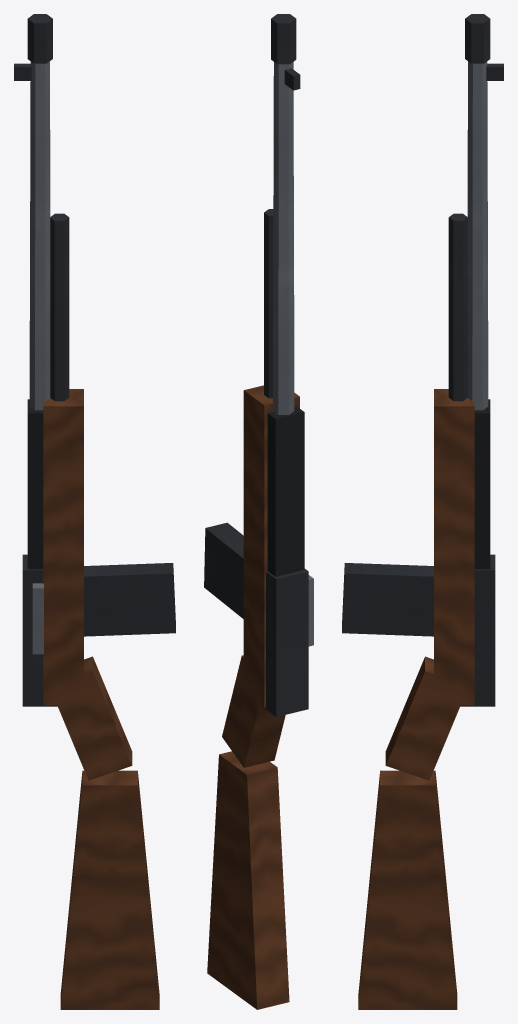
Rendered from weapon_m14.glb.
3 views of the same model, side by side, from view 1: azimuth 90°, elevation 25°; view 2: azimuth 210°, elevation 25°; view 3: azimuth 270°, elevation 25° (orthographic).
Parts seen in each view (by area): view 1: Weapon_M14; view 2: Weapon_M14; view 3: Weapon_M14.
Part boxes in pixels (<box>): Weapon_M14: <box>14,14,175,1009</box>; Weapon_M14: <box>204,14,313,1009</box>; Weapon_M14: <box>342,14,503,1009</box>.
Bounding box in the file's own units: 0.052 × 1.12 × 0.1668.
4 materials, 4 textured.
